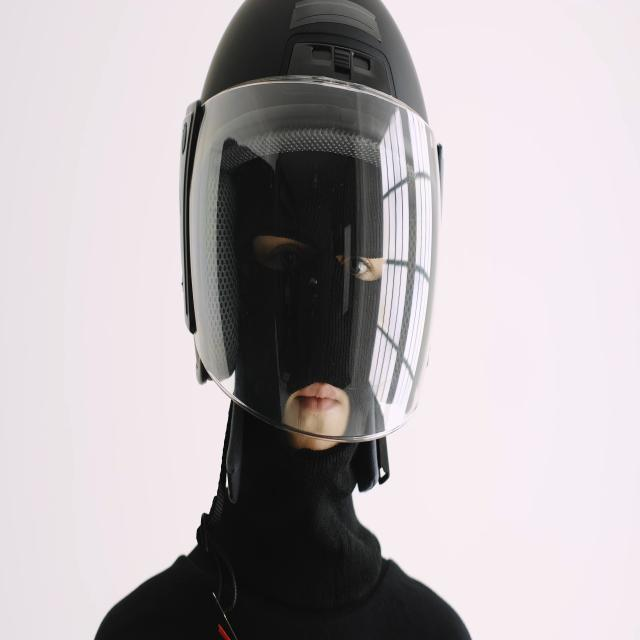Helmet_Wearer: (156, 0, 450, 500)
Person: (94, 0, 470, 640)
